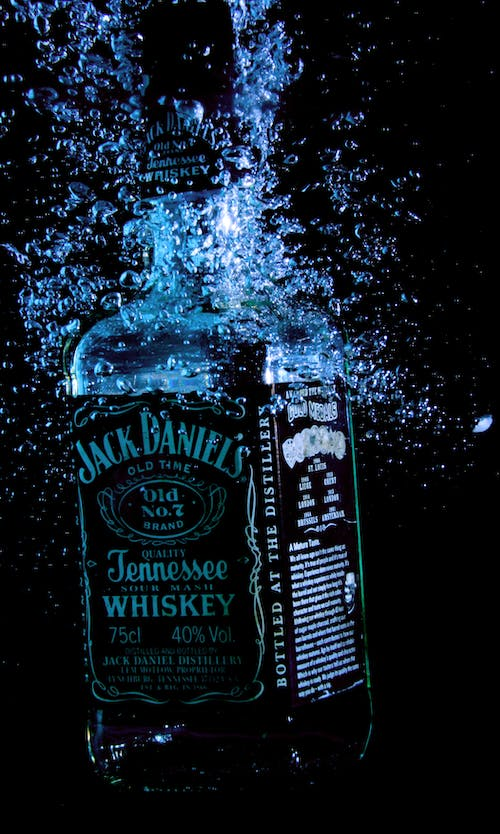alcohol: (59, 0, 376, 797)
